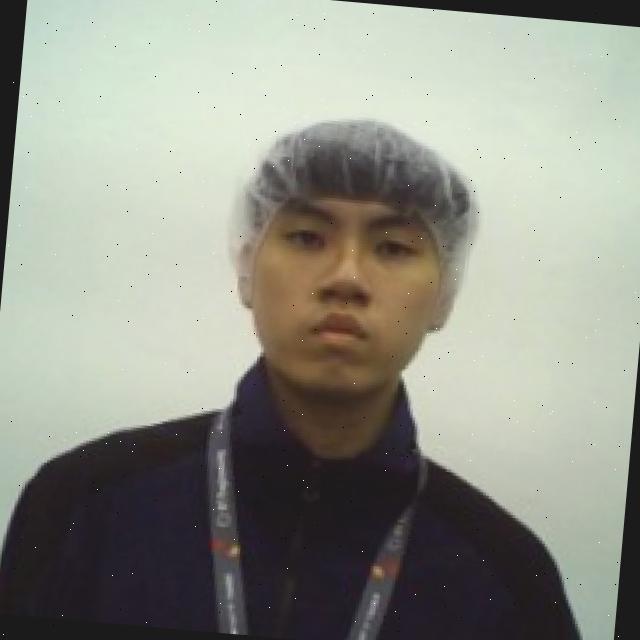gloves: (226, 108, 488, 329)
no_hairnet: (234, 246, 456, 421)
